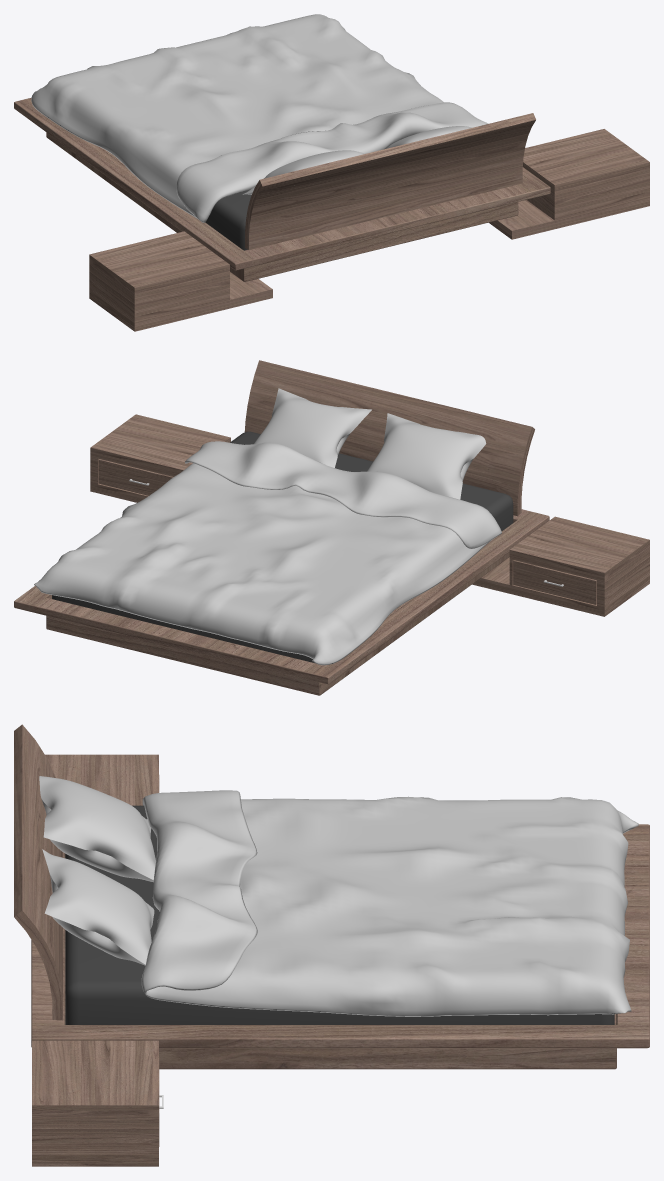
3 renders of one model, top to bottom at view 1: azimuth 30°, elevation 25°; view 2: azimuth 150°, elevation 25°; view 3: azimuth 270°, elevation 25°, orthographic. The views are drawn at different scales.
Parts seen in each view (by area): view 1: duvet_10, bed head_5, master bed_14, bed table left_7, bed table right_9, mattress_13, oreiller.001_12, oreiller_11; view 2: duvet_10, master bed_14, bed head_5, bed table left_7, oreiller.001_12, bed table right_9, oreiller_11, mattress_13, table de nuit 2.001_6, table de nuit 2.004_8; view 3: duvet_10, master bed_14, bed table right_9, mattress_13, bed head_5, oreiller.001_12, oreiller_11, bed table left_7.
Boxes of the visible parts, x1,y1,x2,y2 form: duvet_10: (31, 14, 488, 222); bed head_5: (245, 113, 535, 249); master bed_14: (14, 97, 550, 281); bed table left_7: (89, 231, 272, 331); bed table right_9: (489, 129, 649, 239); mattress_13: (205, 189, 251, 250); oreiller.001_12: (242, 150, 365, 194); oreiller_11: (386, 126, 471, 148); duvet_10: (34, 441, 501, 665); master bed_14: (14, 509, 549, 695); bed head_5: (244, 360, 534, 516); bed table left_7: (472, 516, 649, 616); oreiller.001_12: (367, 413, 486, 499); bed table right_9: (90, 414, 230, 502); oreiller_11: (254, 388, 371, 467); mattress_13: (52, 431, 513, 662); table de nuit 2.001_6: (513, 560, 596, 604); table de nuit 2.004_8: (98, 459, 173, 495); duvet_10: (141, 790, 638, 1016); master bed_14: (31, 824, 649, 1069); bed table right_9: (32, 1040, 158, 1166); mattress_13: (65, 805, 614, 1024); bed head_5: (14, 724, 63, 1020); oreiller.001_12: (39, 776, 156, 881); oreiller_11: (42, 849, 154, 965); bed table left_7: (45, 754, 158, 805).
Size of the model in its own units: 3 by 0.6964 by 2.3.
